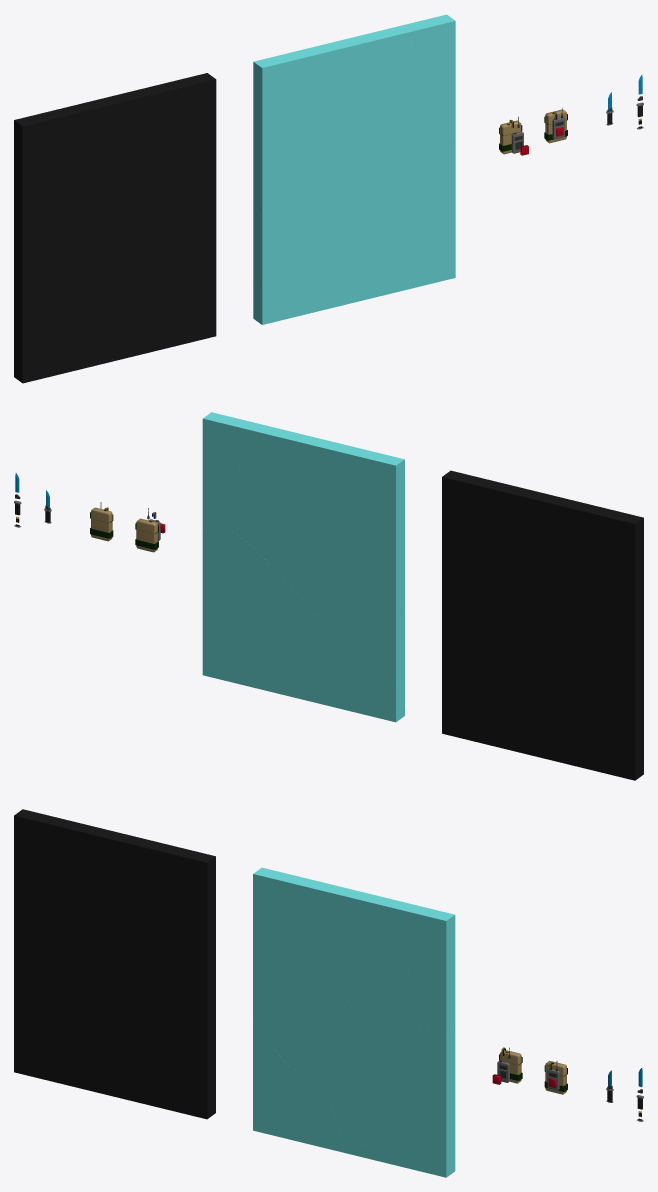
File: assets.fbx
3 renders of one model, top to bottom at view 1: azimuth 30°, elevation 25°; view 2: azimuth 150°, elevation 25°; view 3: azimuth 330°, elevation 25°, orthographic.
Parts seen in each view (by area): view 1: Cube.080_cell.010, Cube.080_cell.003, Cube.080_cell.005, Cube.080_cell.012, Cube.080_cell.008, Cube.080_cell.001, Cube.080_cell.007, Cube.080_cell, Cube.080_cell.006, Cube.080_cell.013, Cube.080_cell.009, Cube.080_cell.002 (+2 smaller); view 2: Cube.080_cell.012, Cube.080_cell.005, Cube.080_cell.008, Cube.080_cell.001, Cube.080_cell.010, Cube.080_cell.003, Cube.080_cell, Cube.080_cell.007, Cube.080_cell.013, Cube.080_cell.006, Cube.080_cell.009, Cube.080_cell.002 (+2 smaller); view 3: Cube.080_cell.012, Cube.080_cell.005, Cube.080_cell.010, Cube.080_cell.003, Cube.080_cell.001, Cube.080_cell.008, Cube.080_cell.013, Cube.080_cell.006, Cube.080_cell.007, Cube.080_cell, Cube.080_cell.009, Cube.080_cell.002 (+2 smaller).
Boxes of the visible parts, bbox=[...] form: Cube.080_cell.010: bbox=[253, 59, 380, 244]; Cube.080_cell.003: bbox=[14, 117, 141, 302]; Cube.080_cell.005: bbox=[92, 195, 216, 345]; Cube.080_cell.012: bbox=[332, 137, 455, 287]; Cube.080_cell.008: bbox=[265, 24, 420, 175]; Cube.080_cell.001: bbox=[25, 82, 180, 233]; Cube.080_cell.007: bbox=[253, 235, 351, 324]; Cube.080_cell: bbox=[14, 294, 112, 383]; Cube.080_cell.006: bbox=[168, 73, 216, 198]; Cube.080_cell.013: bbox=[408, 14, 455, 140]; Cube.080_cell.009: bbox=[253, 206, 298, 296]; Cube.080_cell.002: bbox=[14, 264, 59, 355]; Cube.080_cell.012: bbox=[202, 530, 323, 693]; Cube.080_cell.005: bbox=[442, 588, 562, 752]; Cube.080_cell.008: bbox=[236, 422, 389, 573]; Cube.080_cell.001: bbox=[475, 480, 628, 631]; Cube.080_cell.010: bbox=[281, 456, 404, 635]; Cube.080_cell.003: bbox=[520, 514, 643, 693]; Cube.080_cell: bbox=[538, 683, 643, 780]; Cube.080_cell.007: bbox=[299, 625, 404, 722]; Cube.080_cell.013: bbox=[202, 412, 252, 532]; Cube.080_cell.006: bbox=[442, 470, 491, 591]; Cube.080_cell.009: bbox=[361, 608, 404, 687]; Cube.080_cell.002: bbox=[600, 666, 643, 746]; Cube.080_cell.012: bbox=[322, 1023, 455, 1177]; Cube.080_cell.005: bbox=[83, 965, 215, 1119]; Cube.080_cell.010: bbox=[253, 867, 371, 1074]; Cube.080_cell.003: bbox=[14, 809, 132, 1016]; Cube.080_cell.001: bbox=[29, 812, 176, 981]; Cube.080_cell.008: bbox=[268, 870, 415, 1039]; Cube.080_cell.013: bbox=[405, 905, 455, 1036]; Cube.080_cell.006: bbox=[166, 847, 215, 978]; Cube.080_cell.007: bbox=[253, 1068, 342, 1152]; Cube.080_cell: bbox=[14, 1009, 103, 1093]; Cube.080_cell.009: bbox=[253, 1023, 289, 1102]; Cube.080_cell.002: bbox=[14, 965, 50, 1043].
Bounding box in the file's own units: 4441 × 1744 × 235.
